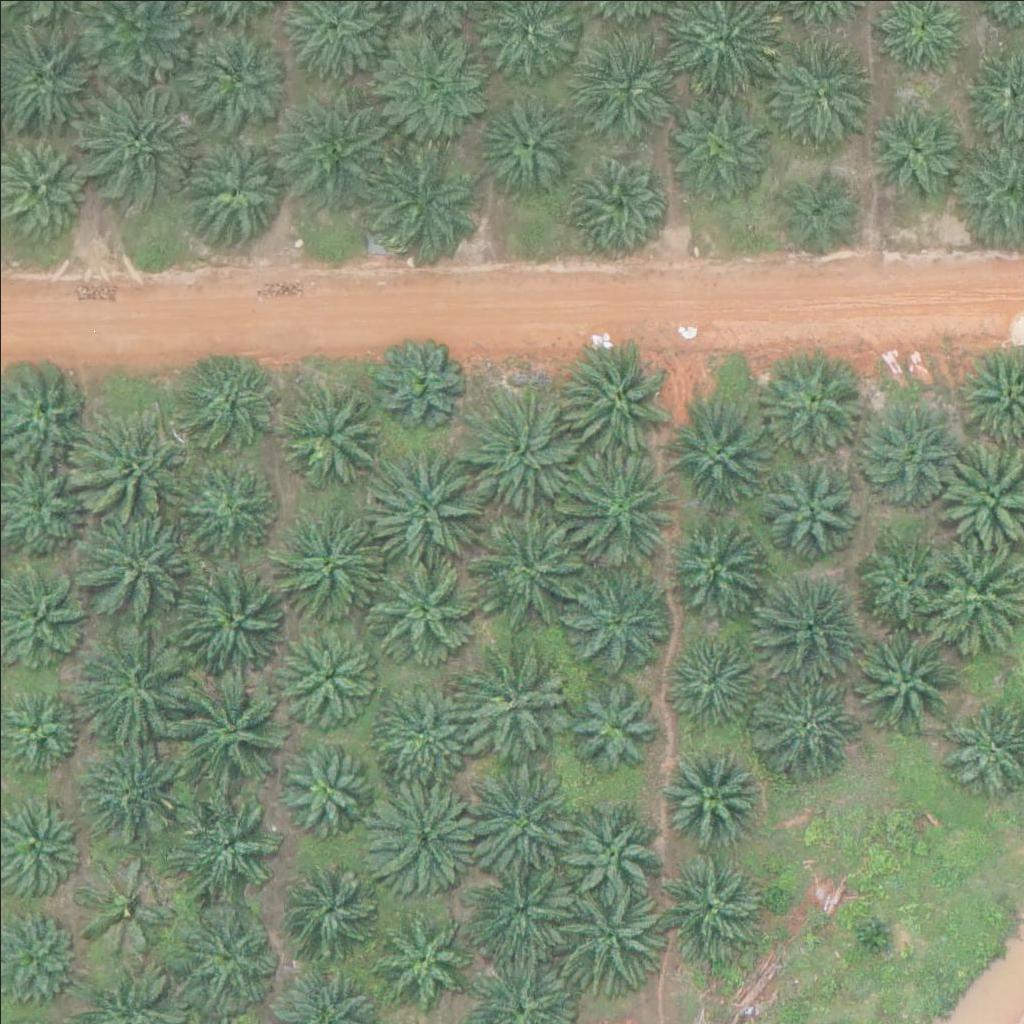Kelapa_Sawit: (175, 564, 288, 678), (368, 780, 481, 894), (459, 764, 572, 878), (465, 387, 578, 501), (568, 447, 681, 561), (752, 346, 865, 460), (665, 394, 778, 508), (178, 23, 291, 136), (285, 87, 398, 200), (371, 138, 484, 251), (378, 21, 491, 134), (770, 34, 883, 147), (81, 511, 194, 624), (78, 740, 191, 853), (176, 671, 289, 784), (273, 507, 386, 620), (363, 546, 476, 659), (454, 647, 567, 760), (753, 568, 866, 681), (181, 132, 293, 246), (666, 88, 778, 202), (79, 625, 191, 739), (562, 563, 674, 677), (83, 82, 195, 195), (79, 406, 191, 519), (171, 792, 283, 905), (272, 370, 384, 483), (362, 449, 474, 562), (473, 514, 585, 627), (557, 337, 669, 450), (551, 887, 663, 1000), (849, 624, 961, 737), (475, 98, 575, 199), (180, 906, 280, 1007), (176, 453, 276, 554), (179, 344, 279, 445), (279, 621, 379, 722), (373, 906, 473, 1007), (562, 671, 662, 772), (561, 801, 661, 902), (760, 450, 860, 551), (859, 406, 959, 507), (581, 35, 681, 135), (570, 152, 670, 252), (865, 106, 965, 206), (71, 857, 171, 957), (282, 848, 382, 948), (371, 675, 471, 775), (471, 859, 571, 959), (660, 851, 760, 951), (659, 742, 759, 842), (659, 626, 759, 726), (663, 510, 763, 610), (757, 666, 857, 766), (281, 739, 369, 828), (773, 168, 861, 256), (861, 535, 949, 623), (379, 333, 466, 421), (852, 913, 902, 964)
